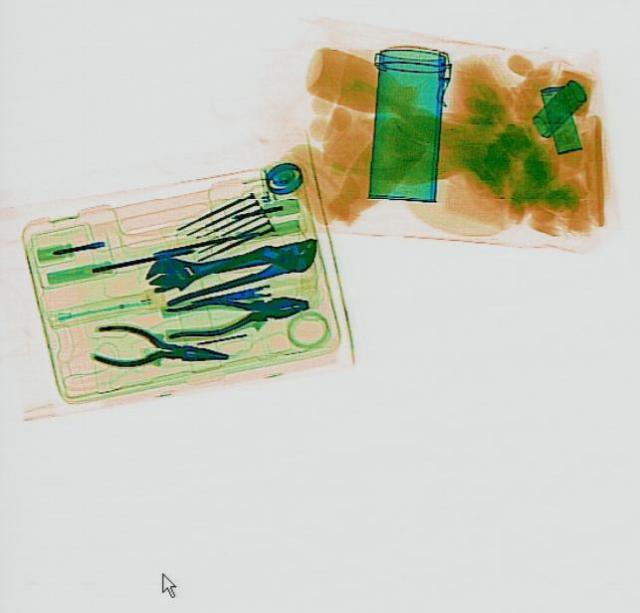Pliers: (160, 284, 310, 341), (88, 318, 228, 376)
Wrench: (141, 229, 311, 292)
